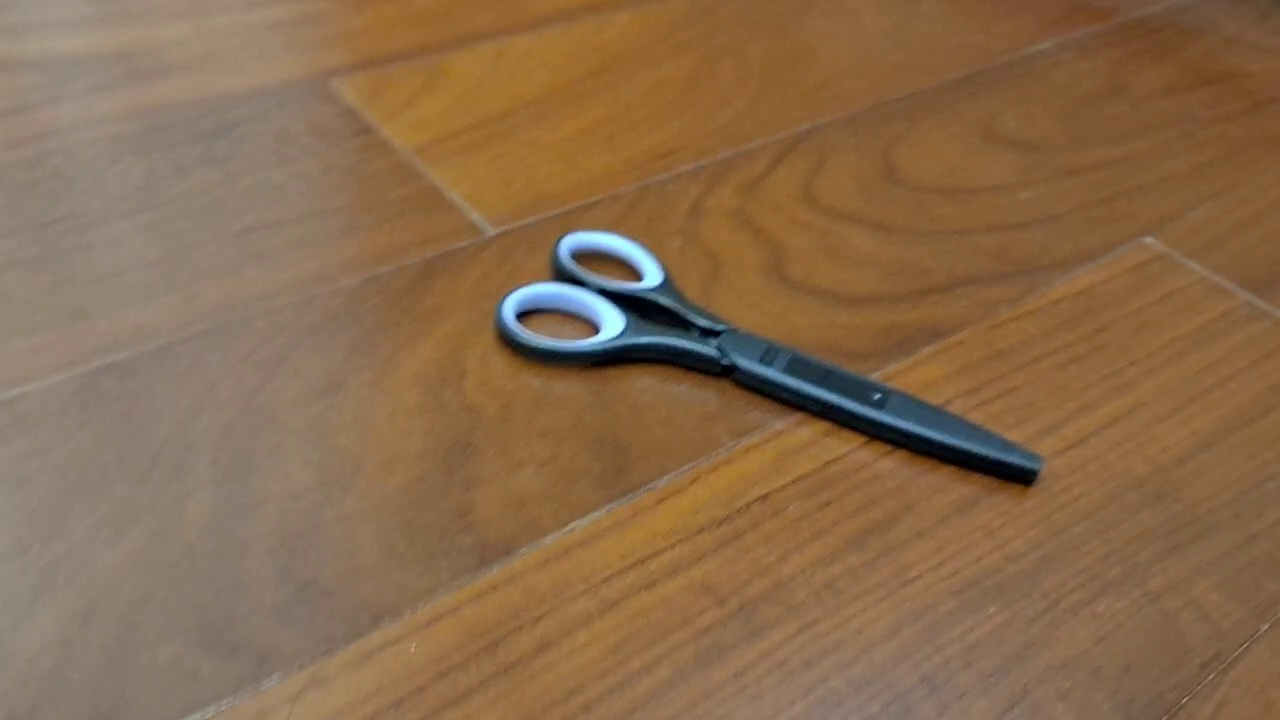scissors: (494, 227, 1044, 489)
